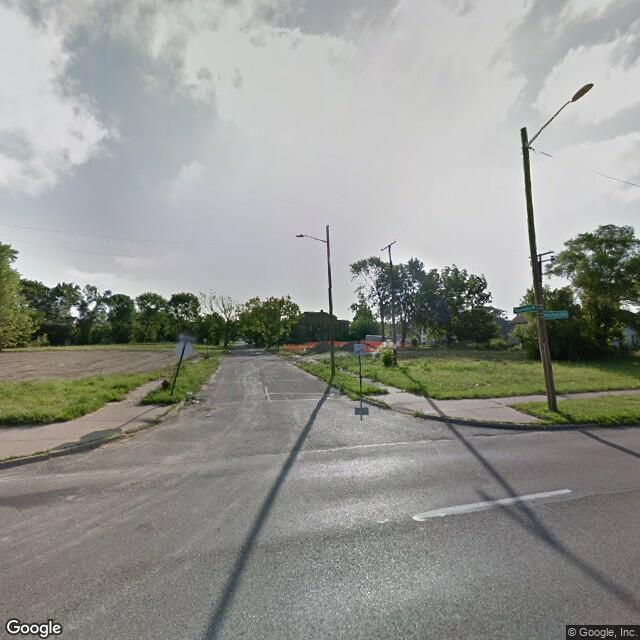litter: (192, 397, 201, 404)
